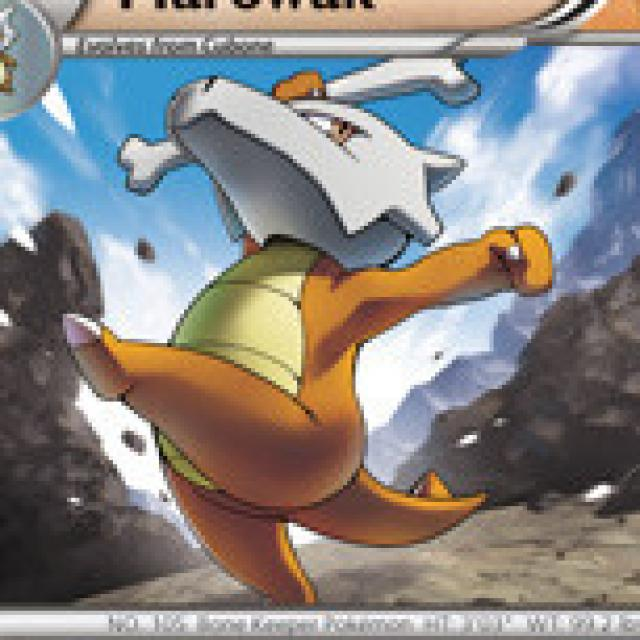Marowak: (80, 58, 451, 571)
